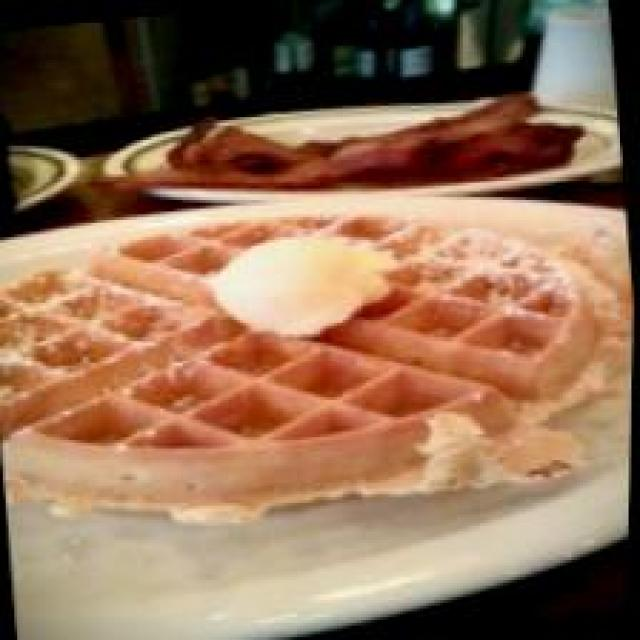Waffles: (0, 171, 637, 566)
